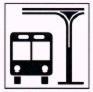Estacao rodoviaria: (2, 2, 91, 89)
